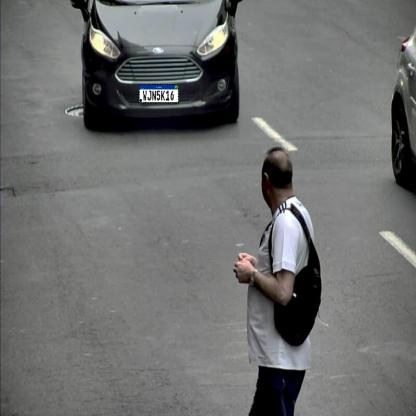PlacaM: (139, 84, 179, 103)
